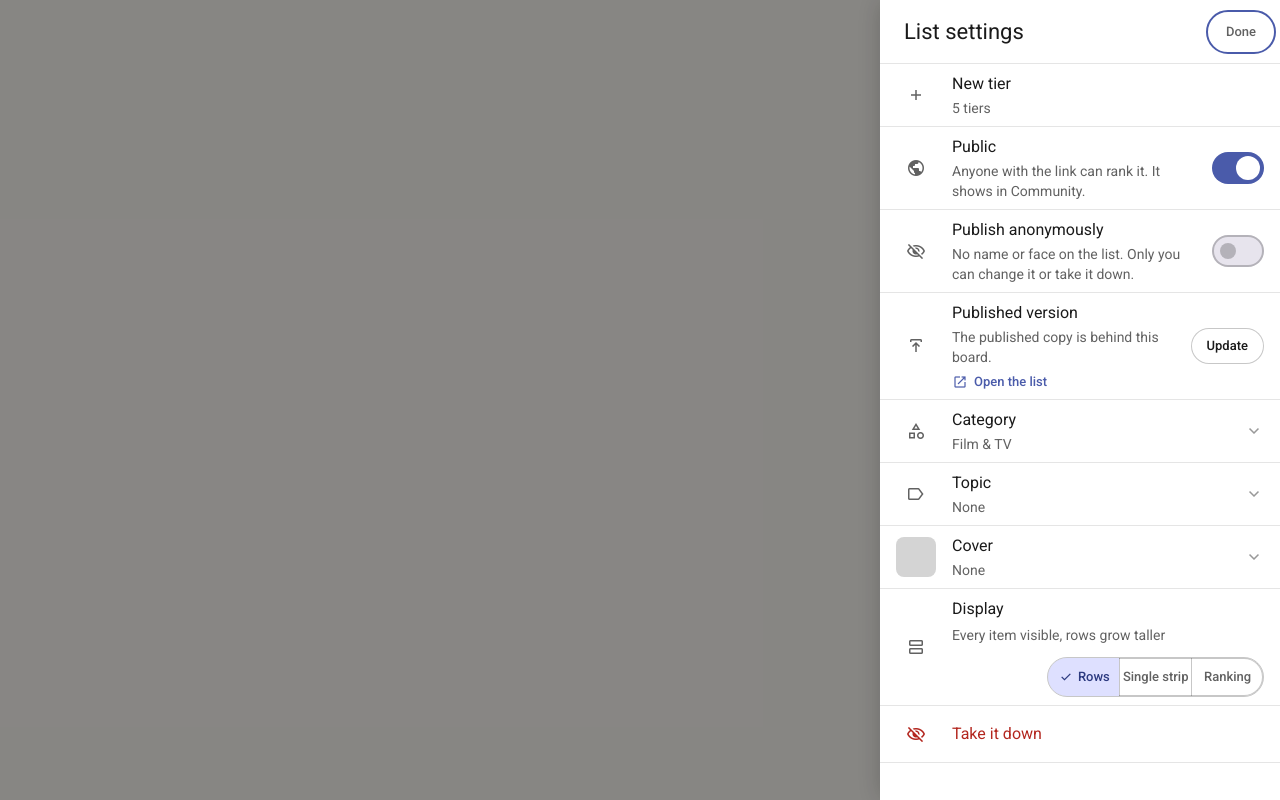
Scenario: BoardSettings: public › asks before taking it down, in the sheet, from the switch or from Take it down
The image size is (1280, 800).
Expected: the text "The published copy is behind this board." is shown, [952,327,1175,367]
Click the switch labelled "Public": x=1238, y=168 [1212,152,1264,184]
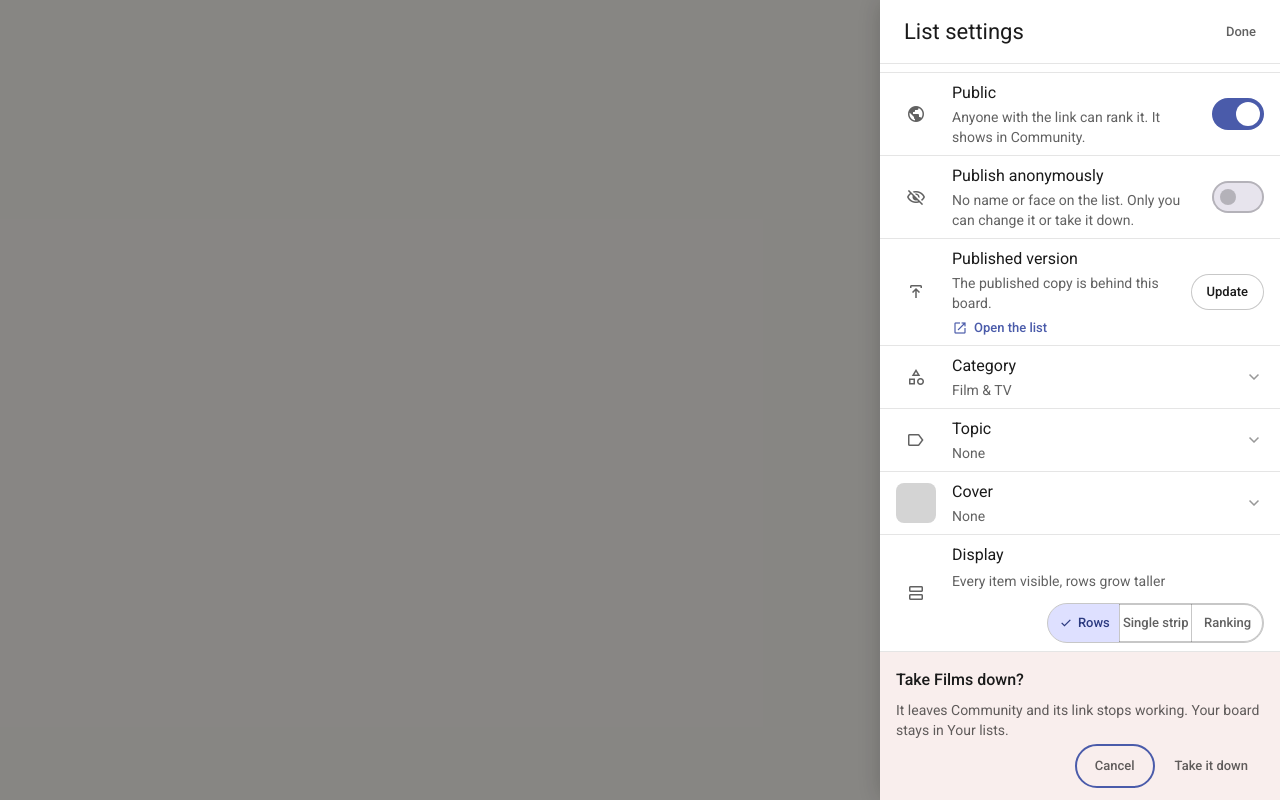
Expected: the element "Take Films down?" shows "It leaves Community and its link stops working. Your board stays in Your lists.", [896,702,1259,738]
Click the button "Cancel": x=1115, y=766 [1079,748,1151,784]
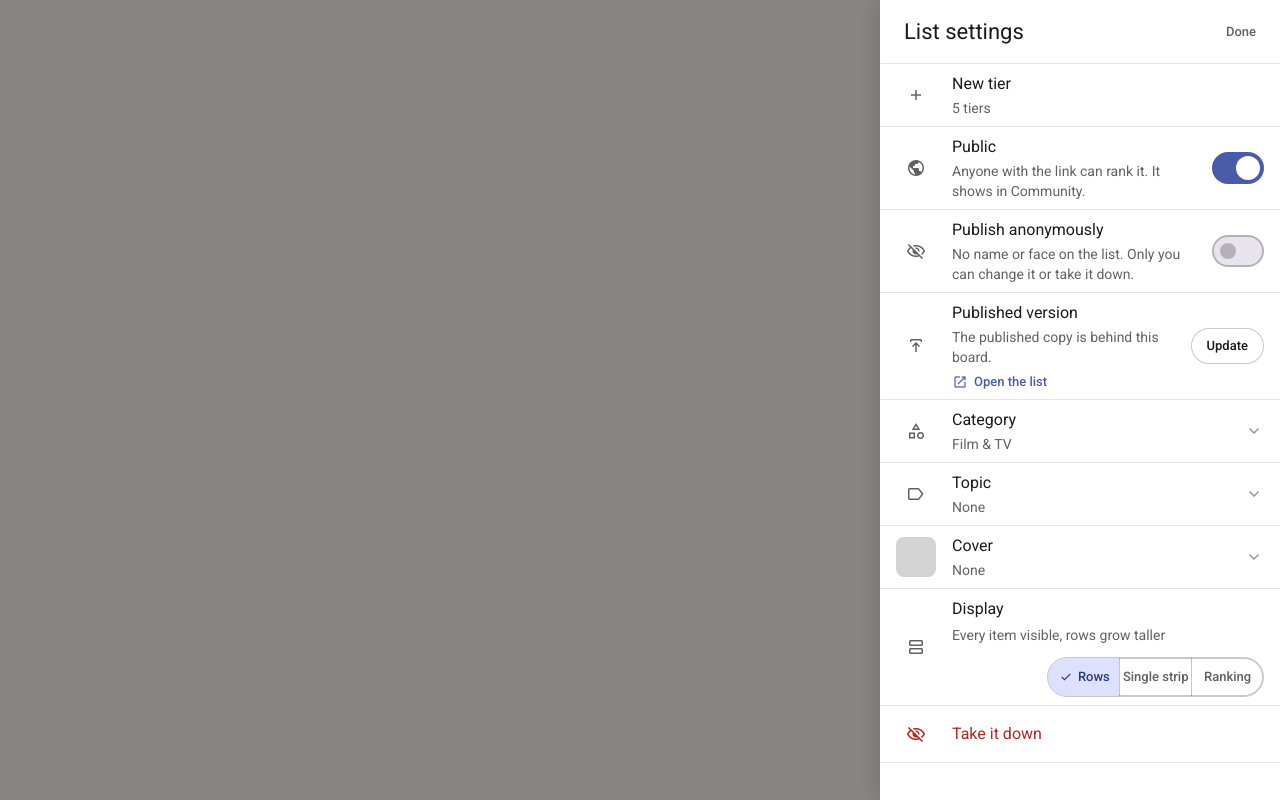
Expected: the switch labelled "Public" is checked, [1212,152,1264,184]
Click the button "Take it down": x=997, y=734 [880,706,1279,762]
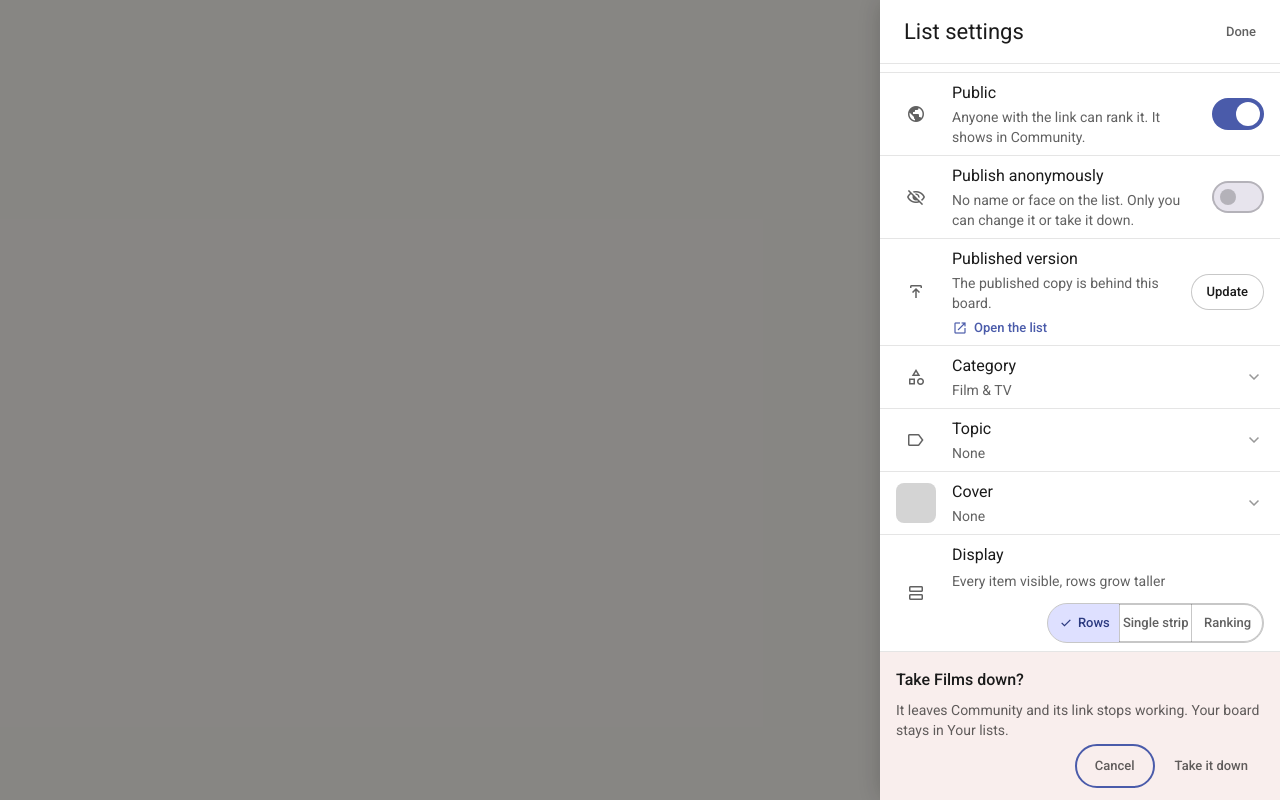
Click the button "Take it down": x=1211, y=766 [1159,748,1264,784]
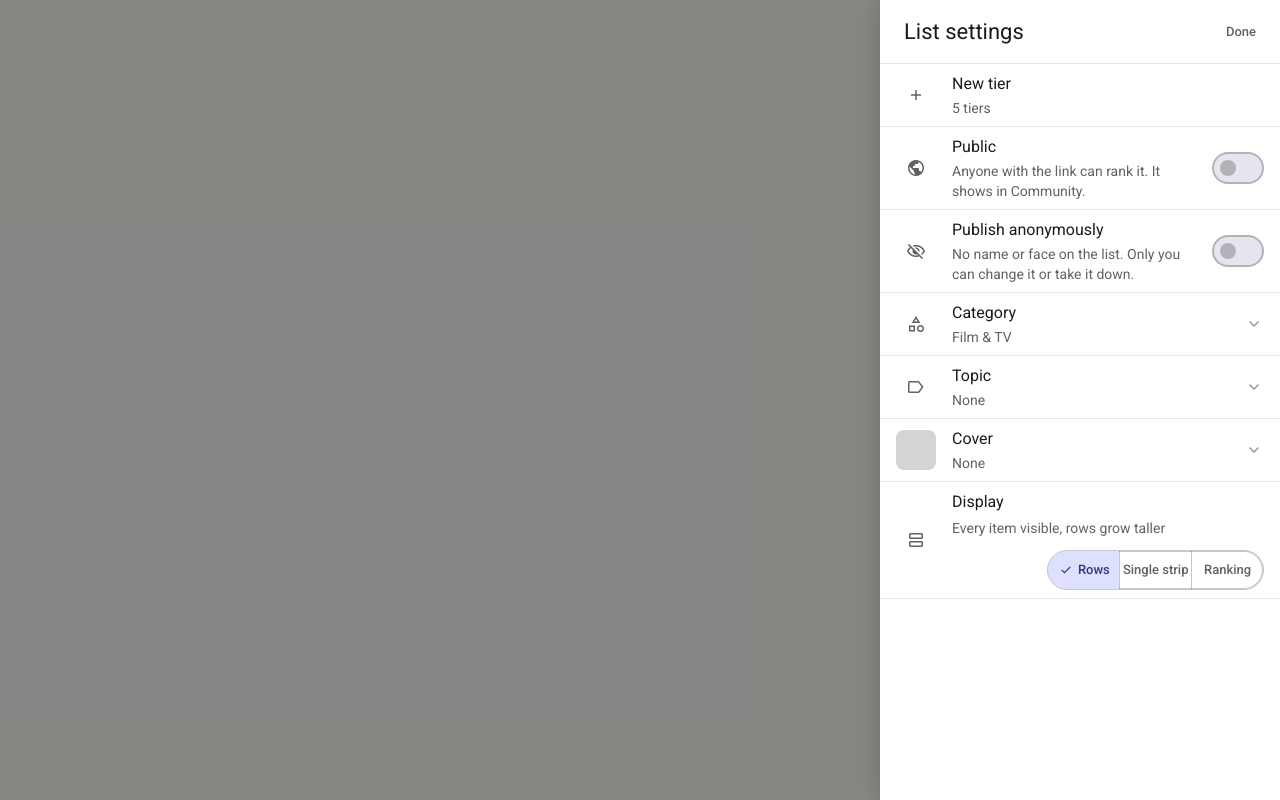
Expected: the switch labelled "Public" is not checked, [1212,152,1264,184]
Expected: the button "Update" is gone
